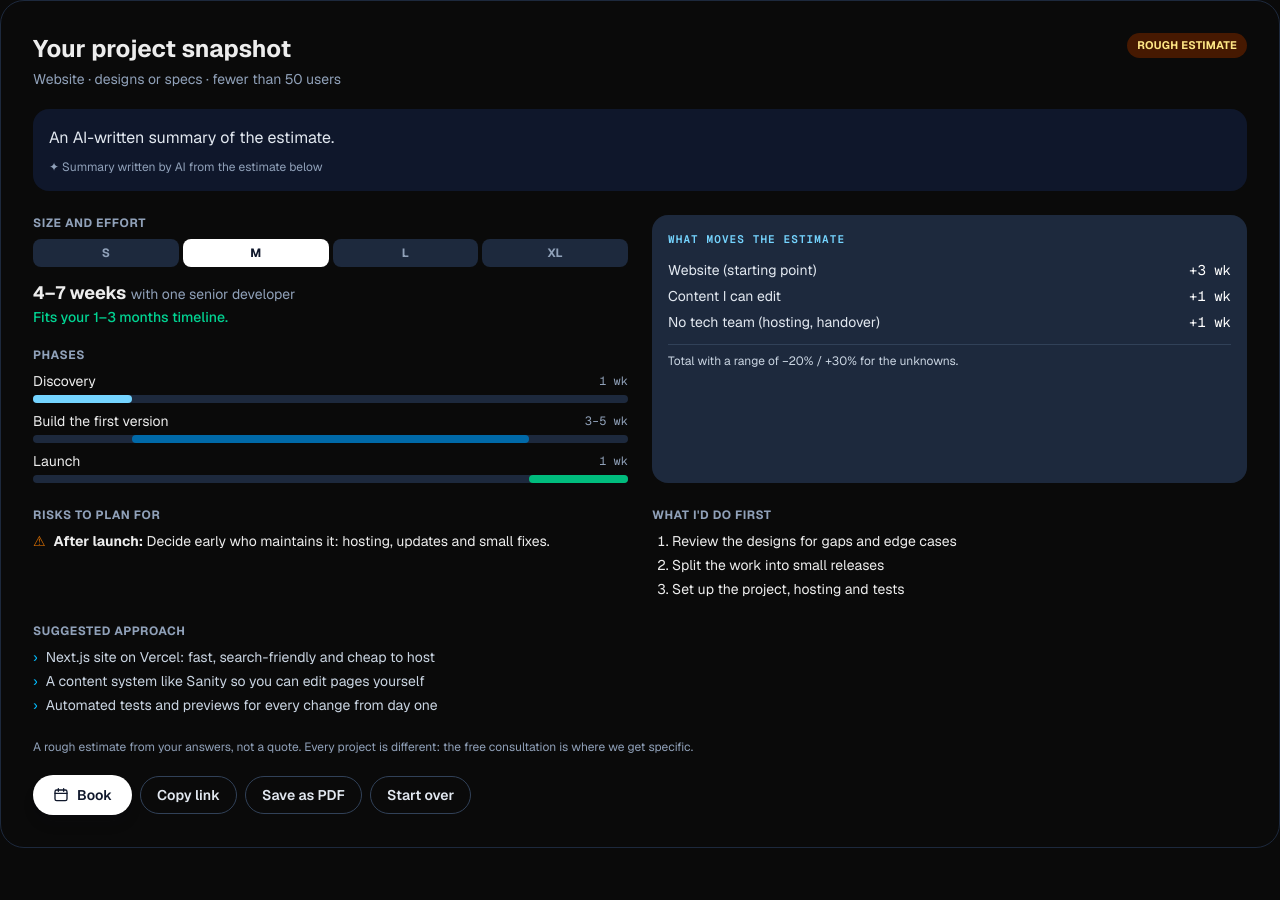
Test: Project Scoping Assistant › opens a shared snapshot straight from the link
Expected: the heading "Your project snapshot" is shown, [33,33,291,64]
Expected: the text "Fits your 1–3 months timeline." is shown, [33,308,228,326]
Click the button "Start over".
click(421, 795)  # box [370,776,471,814]
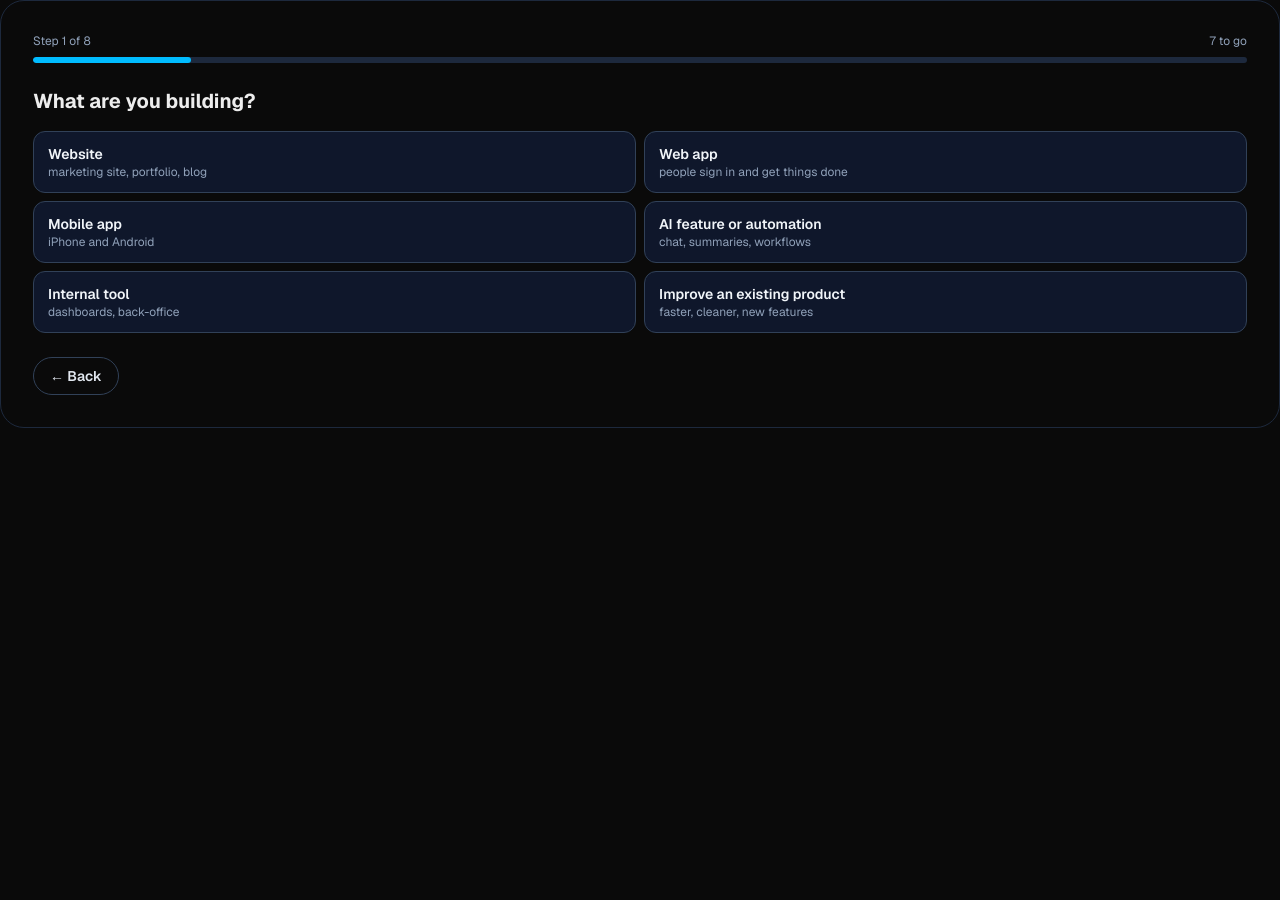
Now the heading "What are you building?" is shown, box [33,88,256,114]
